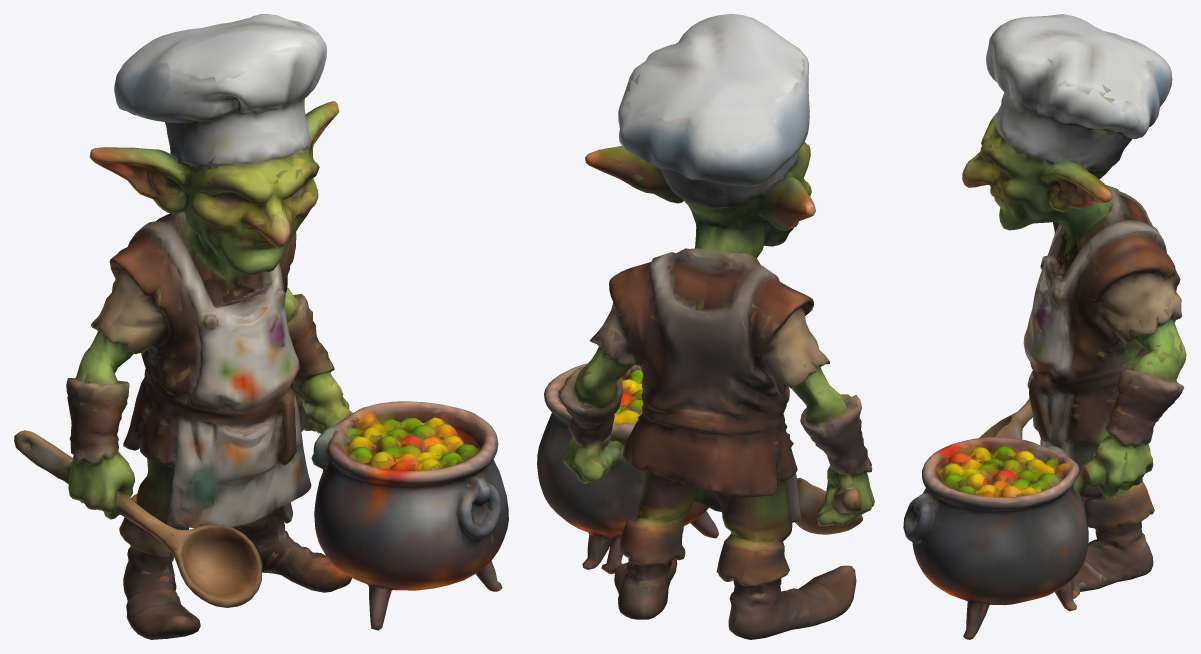
File: Goblin Chef_final.glb
3 renders of one model, left to right at view 1: azimuth 30°, elevation 25°; view 2: azimuth 150°, elevation 25°; view 3: azimuth 270°, elevation 25°, orthographic. The views are drawn at different scales.
Parts seen in each view (by area): view 1: Mesh1.0; view 2: Mesh1.0; view 3: Mesh1.0.
Boxes of the visible parts, <box> form: Mesh1.0: <box>14,14,508,639</box>; Mesh1.0: <box>537,14,874,639</box>; Mesh1.0: <box>903,14,1186,639</box>.
Size of the model in its own units: 0.8647 by 1.2 by 0.5832.
Materials: 1 (1 with a texture image).
